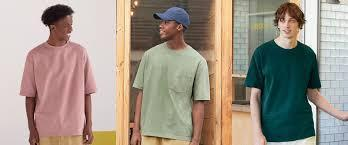Tshirt: (240, 38, 326, 141), (132, 42, 214, 142), (20, 40, 102, 136)
